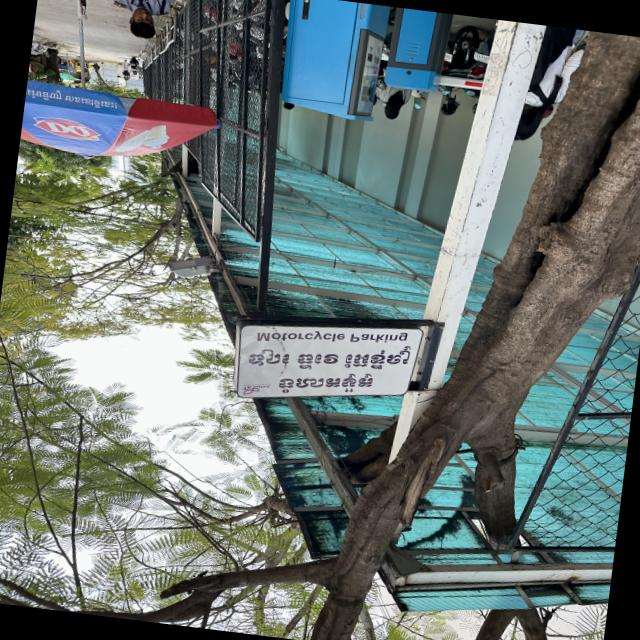2: (241, 343, 414, 370)
Yolov11_80vkh: (272, 371, 380, 394)
